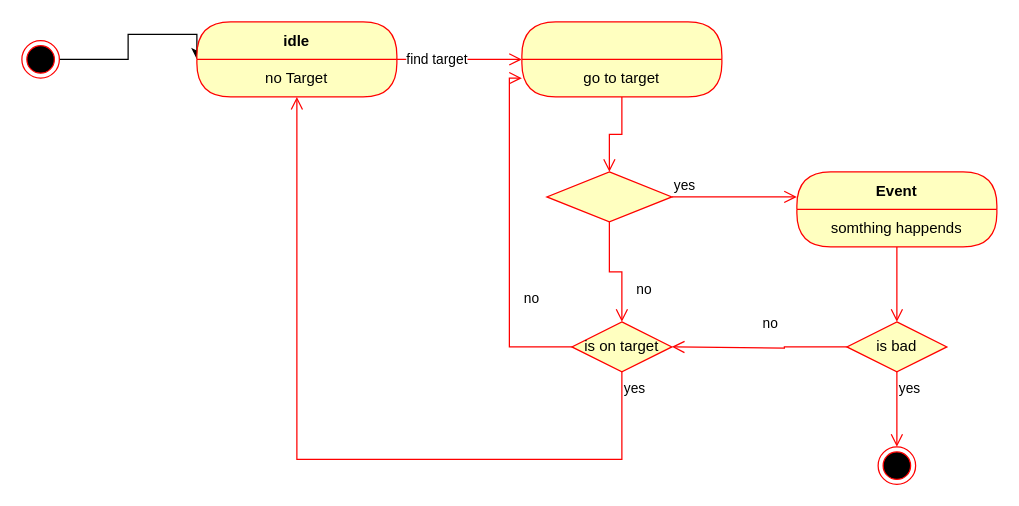
Some shapes in this 1019 by 506 pixel diagram are drawn without their labels. Here are the shapes that lost their labels. From the top down, the box of each, then its label:
(521, 21, 722, 97): walking
(546, 171, 672, 222): met someone
